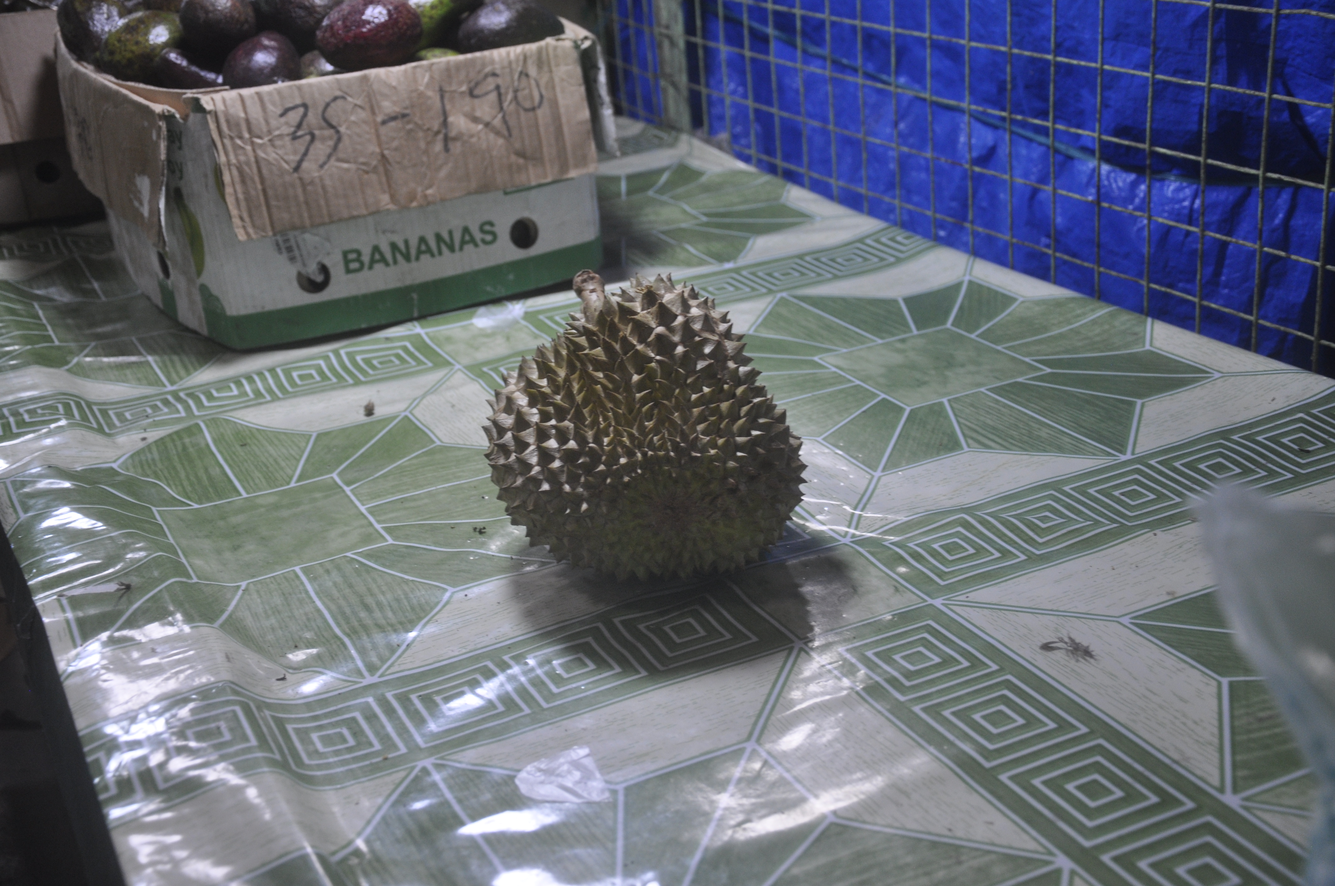mature: (419, 224, 877, 641)
